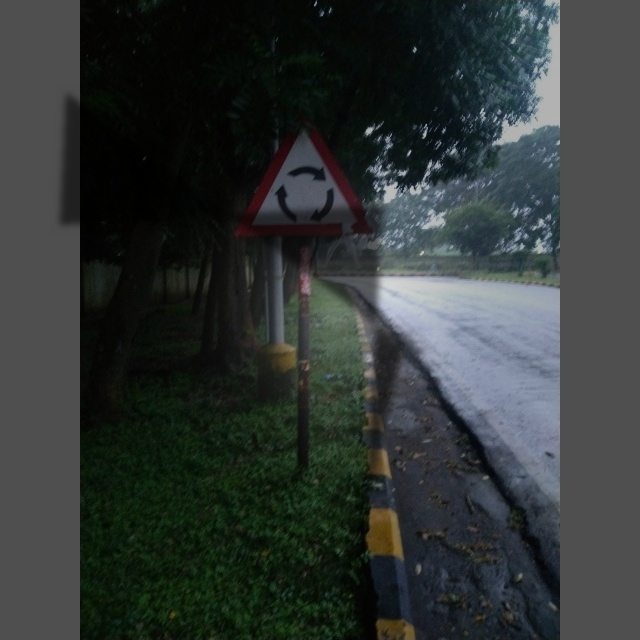Round_About: (229, 114, 376, 247)
